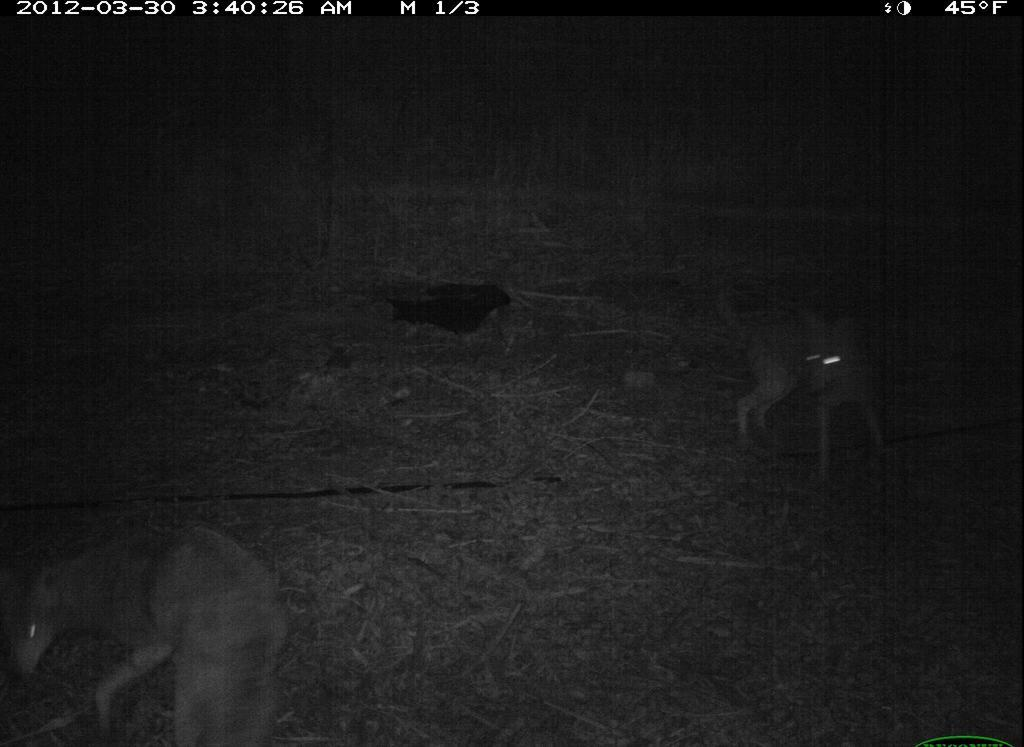coyote: (13, 516, 294, 747), (708, 280, 909, 491)
